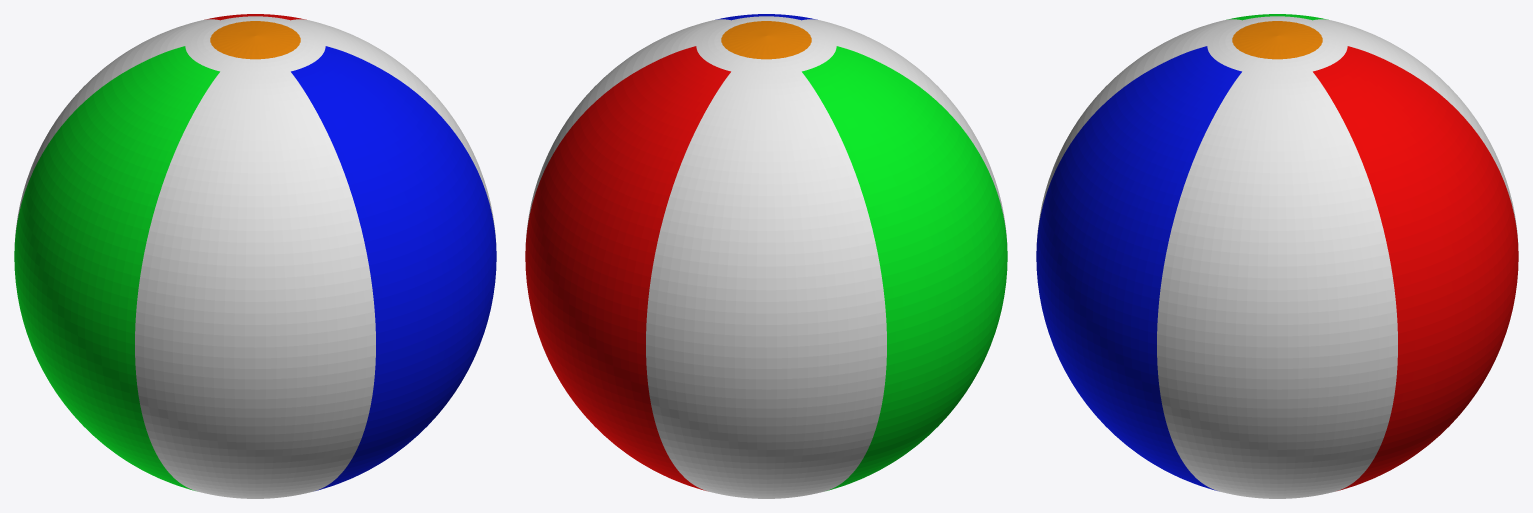
File: beachball.fbx
3 renders of one model, left to right at view 1: azimuth 30°, elevation 25°; view 2: azimuth 150°, elevation 25°; view 3: azimuth 270°, elevation 25°, orthographic.
Parts seen in each view (by area): view 1: Sphere; view 2: Sphere; view 3: Sphere.
Part boxes in pixels (left/top/right/bottom): Sphere: left=14, top=14, right=496, bottom=498; Sphere: left=525, top=14, right=1007, bottom=498; Sphere: left=1036, top=14, right=1518, bottom=498.
Bounding box in the file's own units: 198 × 200 × 198.
